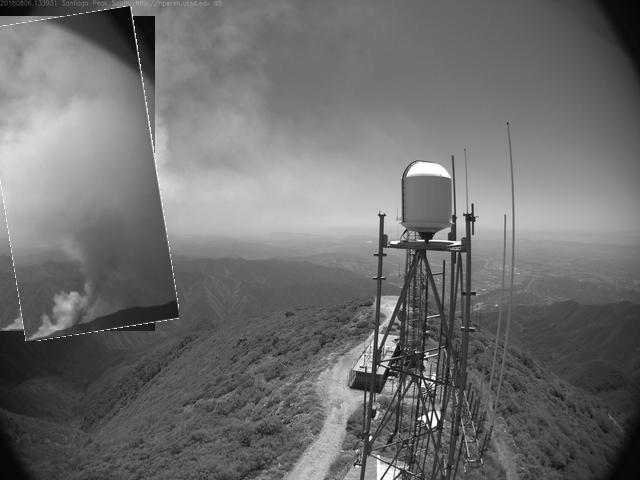smoke: (1, 12, 169, 339)
